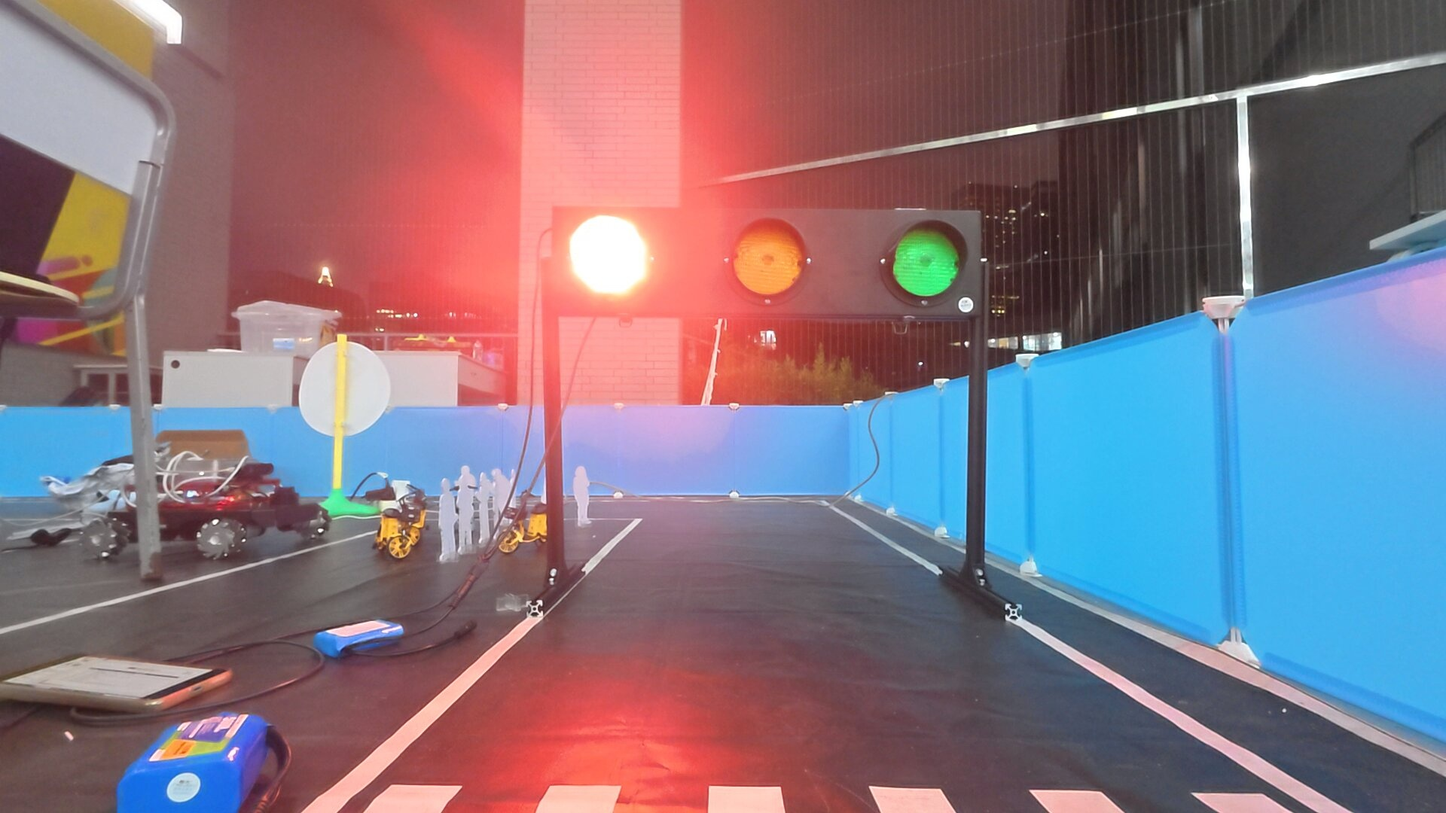stop: (556, 207, 661, 310)
